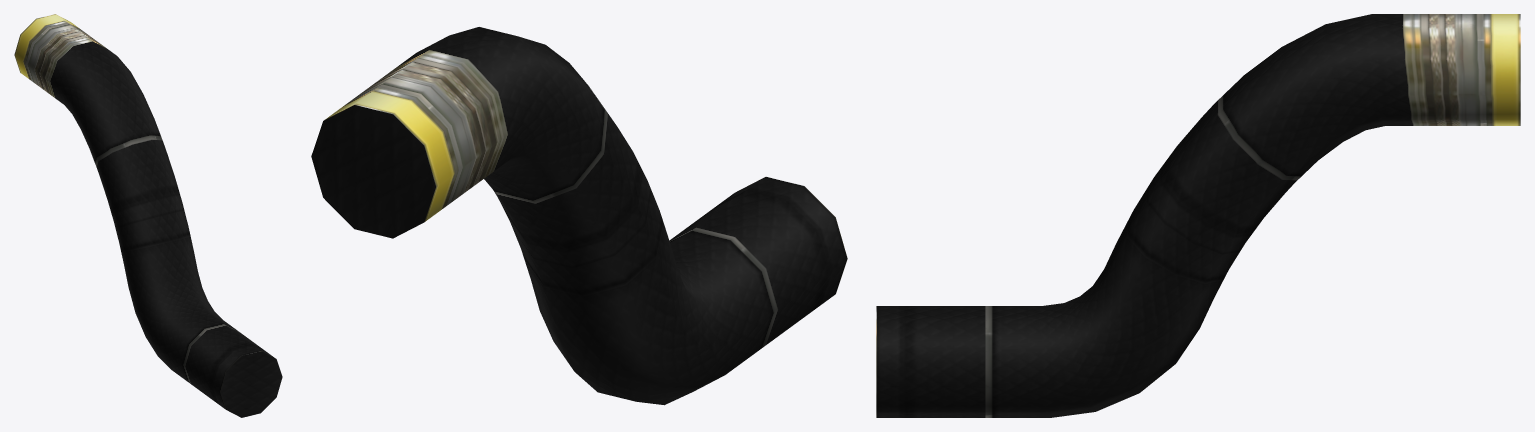
File: SM_Hose13.fbx
3 renders of one model, left to right at view 1: azimuth 30°, elevation 25°; view 2: azimuth 150°, elevation 25°; view 3: azimuth 270°, elevation 25°, orthographic. The views are drawn at different scales.
Visible parts, largest first — view 1: SM_Hose13_LOD0; view 2: SM_Hose13_LOD0; view 3: SM_Hose13_LOD0.
Boxes of the visible parts, x1,y1,x2,y2 form: SM_Hose13_LOD0: (14, 14, 282, 417); SM_Hose13_LOD0: (311, 27, 847, 405); SM_Hose13_LOD0: (876, 14, 1520, 417).
Size of the model in its own units: 10.51 by 60 by 40.
1 material, 1 textured.
